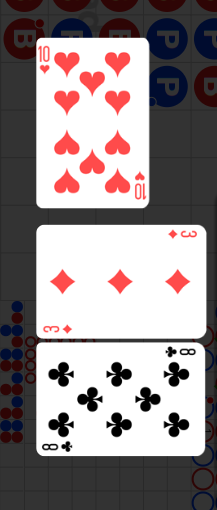10H: (132, 169, 147, 201), (39, 44, 53, 76)
8C: (163, 346, 197, 360)
